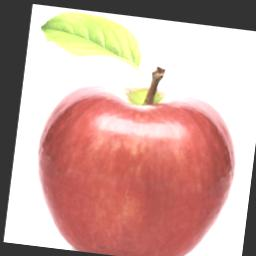Apple Ripe: (29, 22, 256, 256)
